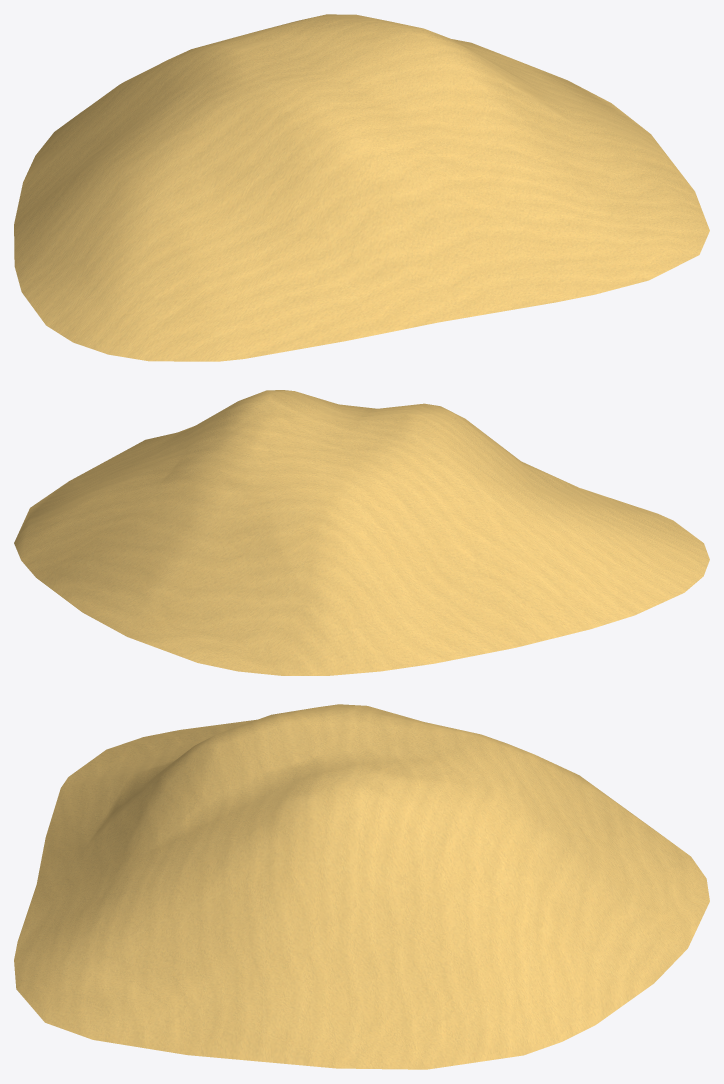
Rendered from Island_01.FBX.
The picture shows the model from 3 angles, top to bottom: view 1: azimuth 30°, elevation 25°; view 2: azimuth 150°, elevation 25°; view 3: azimuth 270°, elevation 25°; orthographic projection. The views are drawn at different scales.
Visible parts, largest first — view 1: Island_01; view 2: Island_01; view 3: Island_01.
Part boxes in pixels (x1=…): Island_01: x1=14, y1=14, x2=709, y2=361; Island_01: x1=14, y1=390, x2=709, y2=675; Island_01: x1=14, y1=704, x2=709, y2=1069.
Size of the model in its own units: 22.72 by 19.57 by 5.12.
